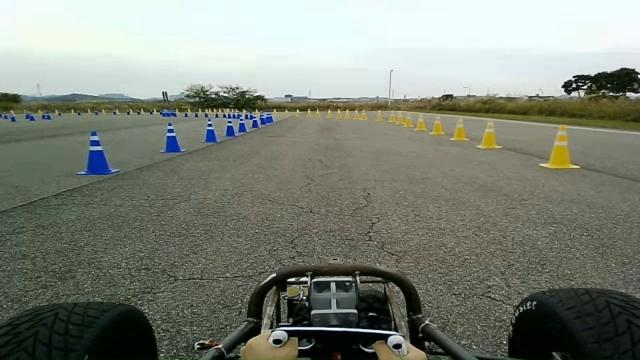blue cone: (75, 130, 120, 176), (159, 122, 186, 153), (200, 119, 220, 143), (222, 119, 238, 137), (237, 120, 248, 132), (250, 118, 260, 128), (265, 112, 274, 123)
yellow cone: (538, 124, 580, 169), (476, 118, 502, 149), (450, 117, 470, 141), (430, 115, 446, 135), (414, 113, 427, 131), (402, 112, 413, 127), (395, 112, 405, 124), (375, 108, 383, 121), (388, 110, 396, 123), (352, 108, 360, 120), (334, 108, 342, 119), (360, 109, 368, 120), (325, 108, 333, 118), (344, 108, 351, 119), (314, 108, 321, 118), (305, 108, 312, 117)
